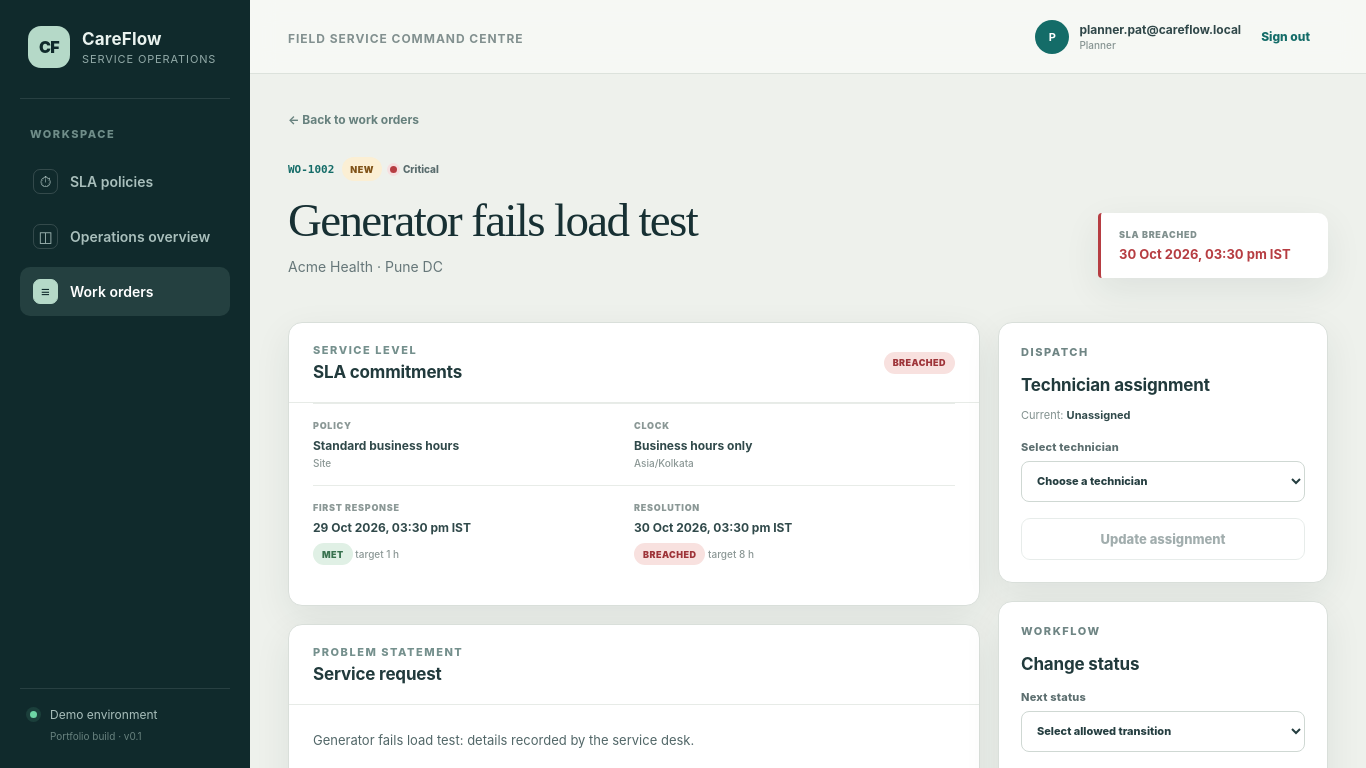
Test: Work order detail (MSW) › assignment › assigning a NEW work order moves it to Assigned and records history
Expected: the heading "Generator fails load test" is shown, [288, 195, 697, 246]
Select "Jamie Fernandes · HVAC" in the dropdown labelled "Select technician". click: (1163, 481)
box: [1021, 461, 1305, 502]
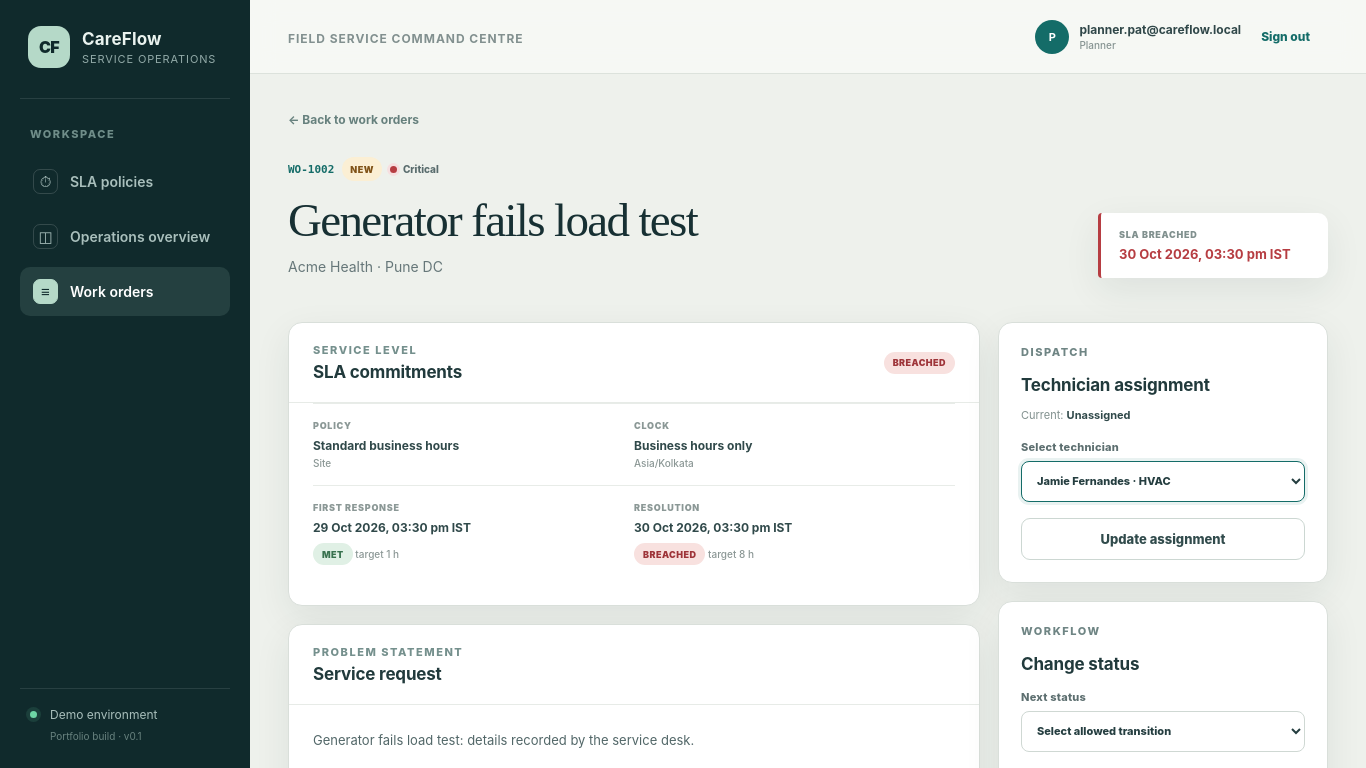
Click the button "Update assignment". click: click(1163, 539)
box: [1021, 518, 1305, 560]
(page scrolled)
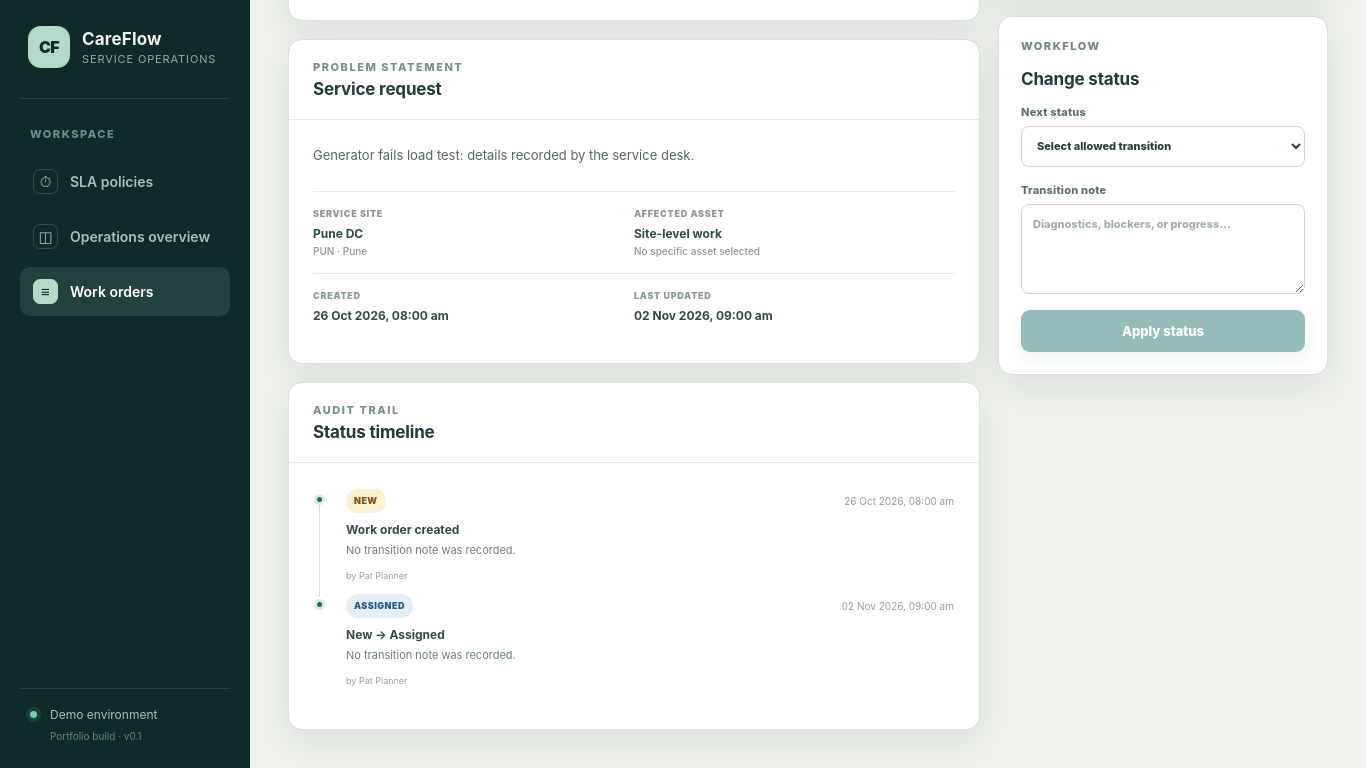
Expected: the text "New → Assigned" is shown, [346, 627, 445, 642]
